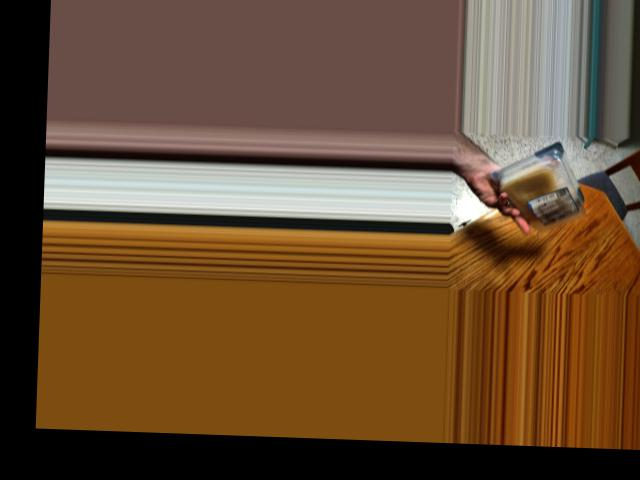cheese: (493, 151, 592, 230)
